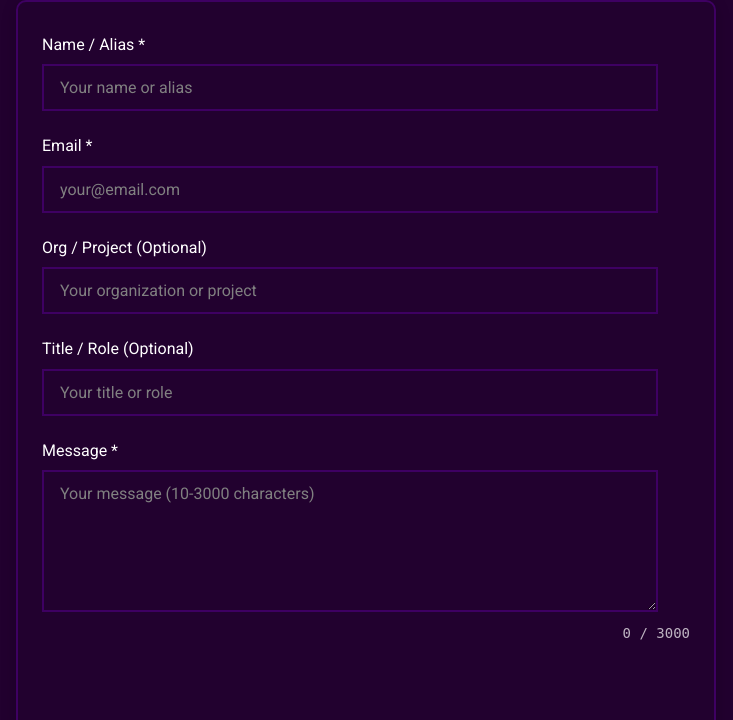
Test: ContactForm (unit) › updates character count as message is typed
The image size is (733, 720).
Type "hello!" into the text box with id "message".
click(350, 541); type("hello!")  # box [42, 470, 658, 612]
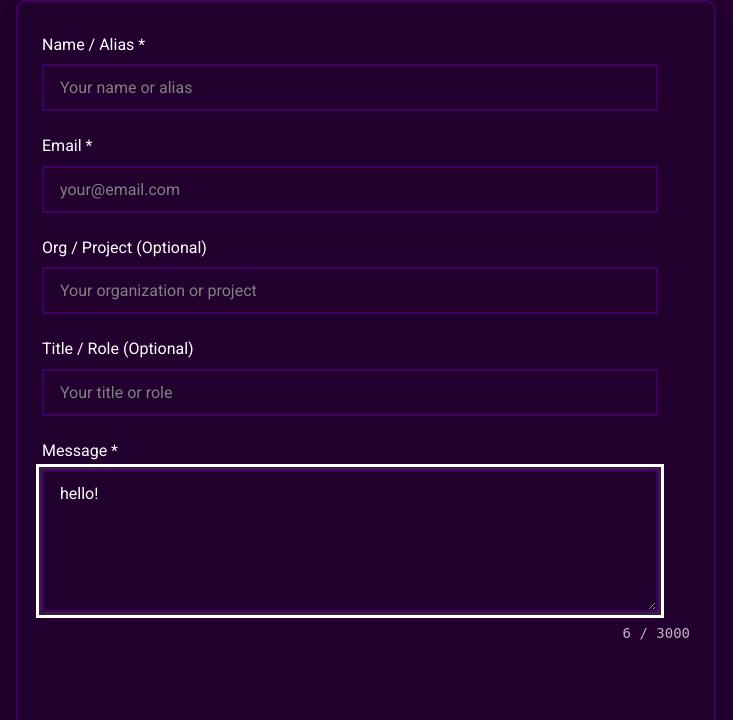
Check: the text "6 / 3000" is shown, box [622, 625, 690, 641]
